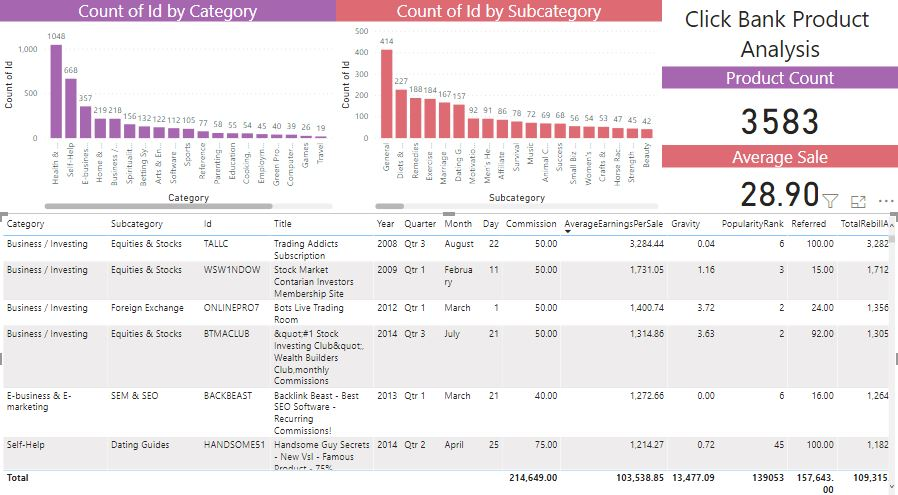

The dashboard page shown, as its layout file describes it:
{"tool":"powerbi","page":{"name":"ClickBank Product Analysis Dashboard","canvas":[1280,720],"ordinal":0},"visuals":[{"type":"columnChart","fields":{"Category":["Category.Category"],"Y":["CountNonNull(Category.Id)"]},"box":[0,0,480,304],"z":0},{"type":"columnChart","fields":{"Y":["CountNonNull(Category.Id)"],"Category":["Category.Subcategory"]},"box":[480,0,464,304],"z":1000},{"type":"card","title":"Average Sale","fields":{"Values":["Category.Average Sale"]},"box":[944,208,336,96],"z":2000},{"type":"card","title":"Product Count","fields":{"Values":["CountNonNull(Category.Id)"]},"box":[944,96,336,112],"z":3000},{"type":"tableEx","fields":{"Values":["Category.Category","Category.Subcategory","Category.Id","Category.Title","Category.ActivateDate.Variation.Date Hierarchy.Year","Category.ActivateDate.Variation.Date Hierarchy.Quarter","Category.ActivateDate.Variation.Date Hierarchy.Month","Category.ActivateDate.Variation.Date Hierarchy.Day","Sum(Category.Commission)","Sum(Category.AverageEarningsPerSale)","Sum(Category.Gravity)","Sum(Category.PopularityRank)"]},"box":[0,304,1280,416],"z":4000},{"type":"textbox","box":[944,0,336,96],"z":5000}]}

Visuals, with their boxes in screenshot pixels (x1, y1, x2, y2), scaled from the page's 1280x720 canvas onto the 898x495 screenshot:
columnChart - Category.Category x CountNonNull(Category.Id): left=0, top=0, right=337, bottom=209
columnChart - CountNonNull(Category.Id) x Category.Subcategory: left=337, top=0, right=662, bottom=209
"Average Sale" card: left=662, top=143, right=897, bottom=209
"Product Count" card: left=662, top=66, right=897, bottom=143
tableEx - Category.Category x Category.Subcategory: left=0, top=209, right=897, bottom=494
textbox: left=662, top=0, right=897, bottom=66
